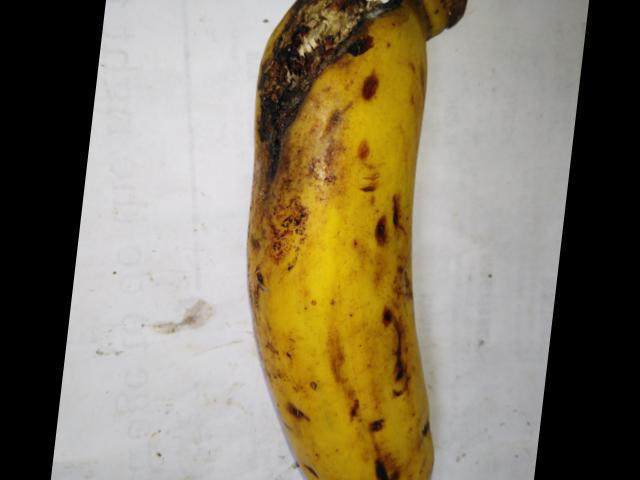ripe: (216, 0, 462, 475)
rotten: (222, 0, 410, 153)
